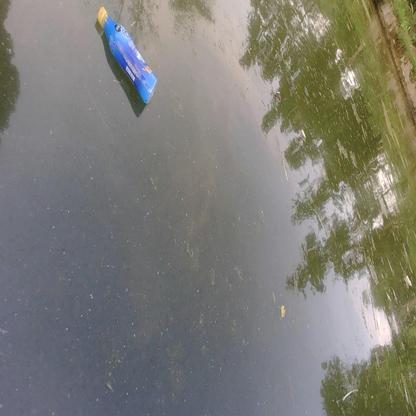plastic bottle: (96, 7, 157, 104)
